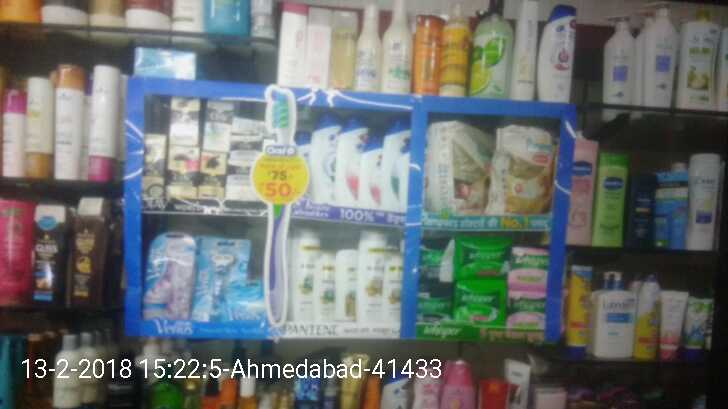venus: (144, 234, 193, 319), (193, 234, 231, 318), (231, 281, 267, 318)
